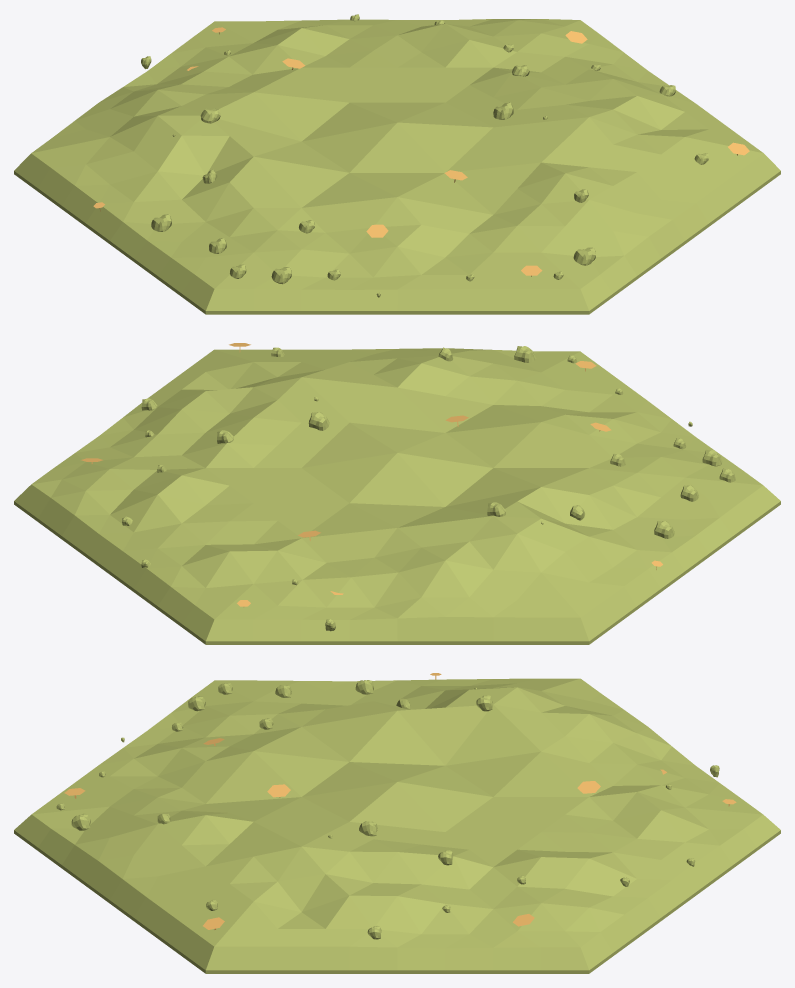
File: grassland.glb
3 renders of one model, top to bottom at view 1: azimuth 30°, elevation 25°; view 2: azimuth 150°, elevation 25°; view 3: azimuth 270°, elevation 25°, orthographic.
Visible parts, largest first — view 1: land, small_details; view 2: land, small_details; view 3: land, small_details.
Part boxes in pixels (x1,y1,x2,y2): land: [14, 14, 780, 314]; small_details: [93, 27, 749, 276]; land: [14, 346, 780, 644]; small_details: [81, 343, 662, 607]; land: [14, 678, 780, 973]; small_details: [64, 673, 736, 929].
Bounding box in the file's own units: 1.73 × 0.193 × 2.
